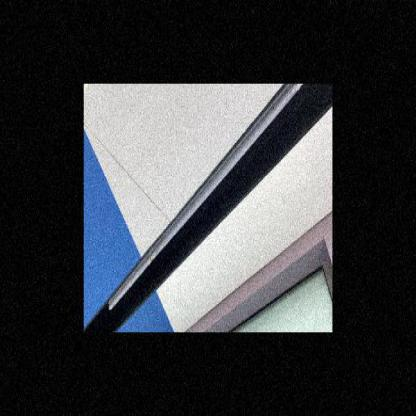light_off: (98, 86, 306, 312)
